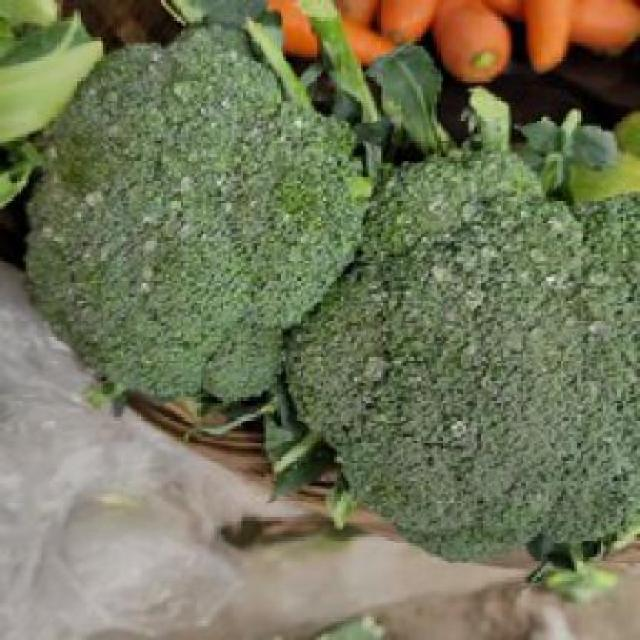broccoli: (26, 32, 368, 394), (320, 168, 637, 558)
